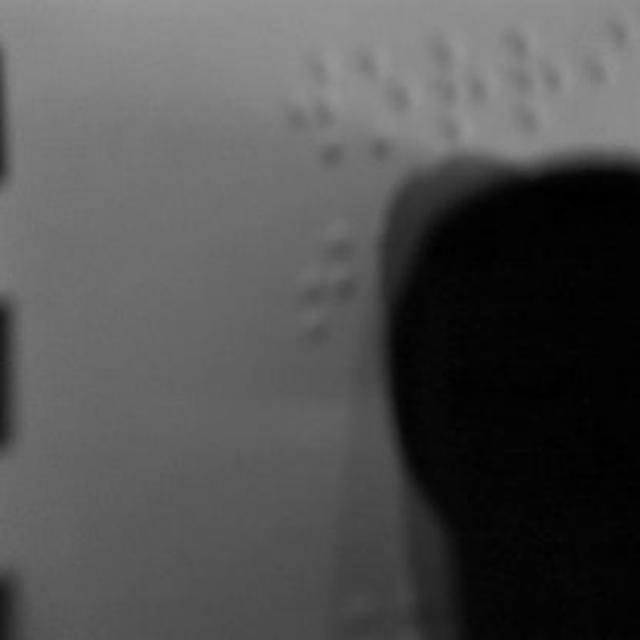braiile: (508, 8, 580, 142), (356, 33, 428, 163), (284, 31, 350, 172), (433, 18, 497, 154), (302, 208, 362, 349)
